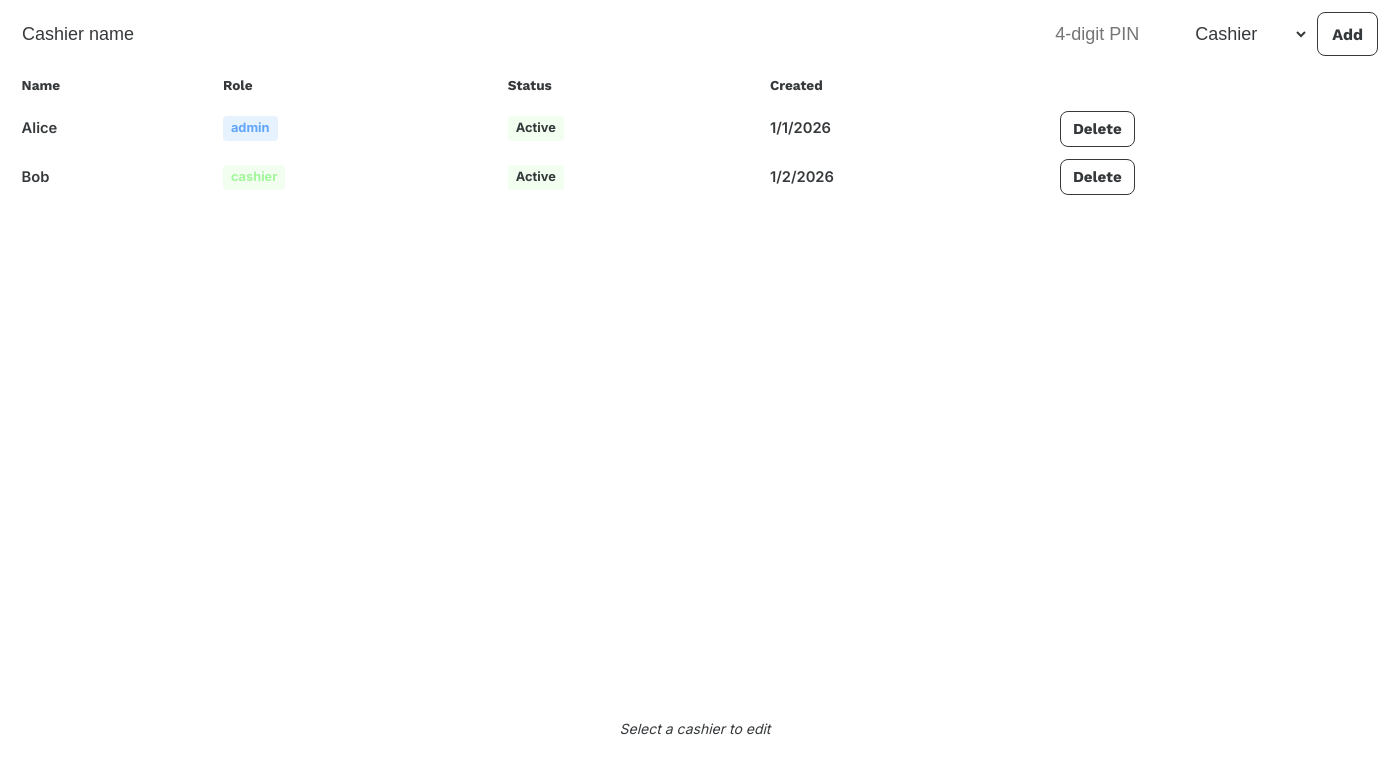
Test case: CashierPanel › displays success message after creating a cashier
Expected: the text "Alice" is shown, [12,104,213,153]
Type "Eve" into the field with placeholder "Cashier name" at (525, 34), box [12,16,1037,52]
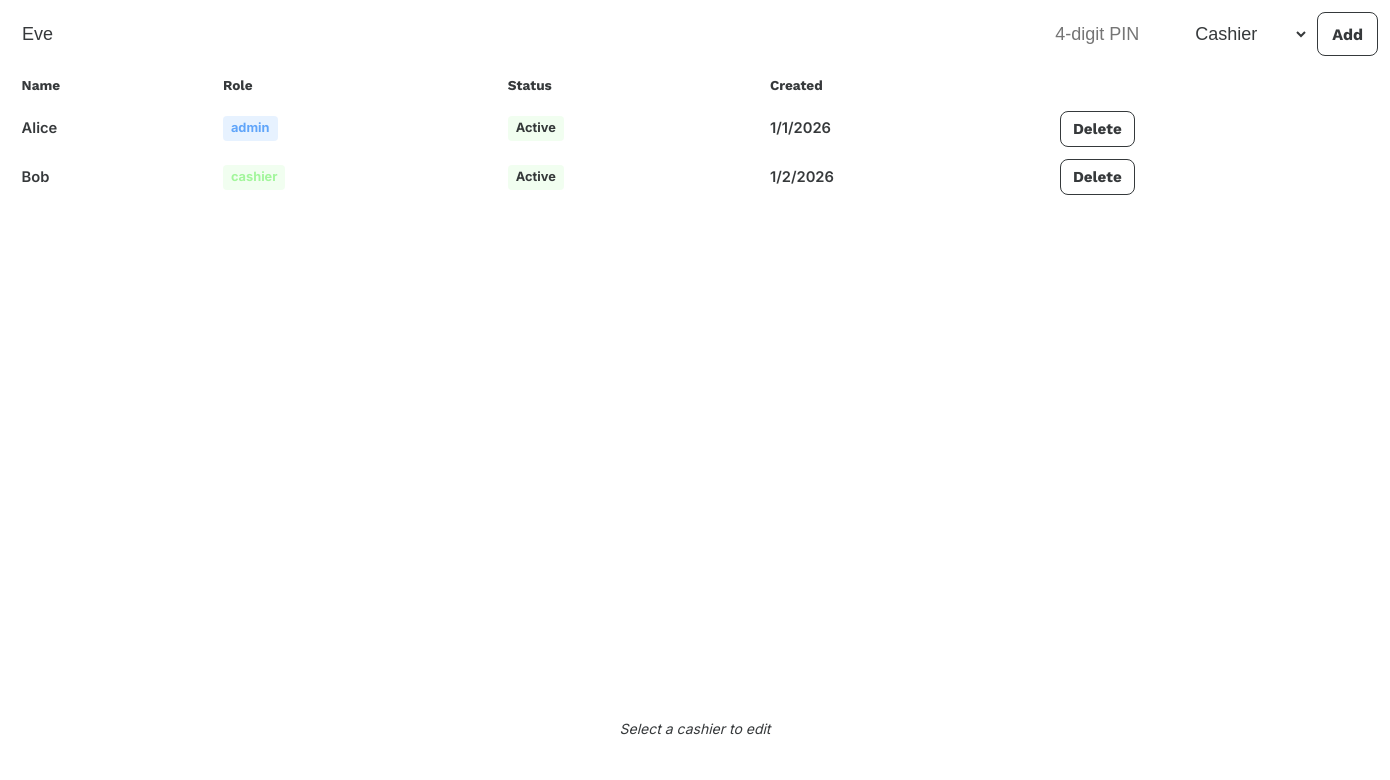
Type "5678" into the password field with placeholder "4-digit PIN" at (1109, 34), box [1045,16,1173,52]
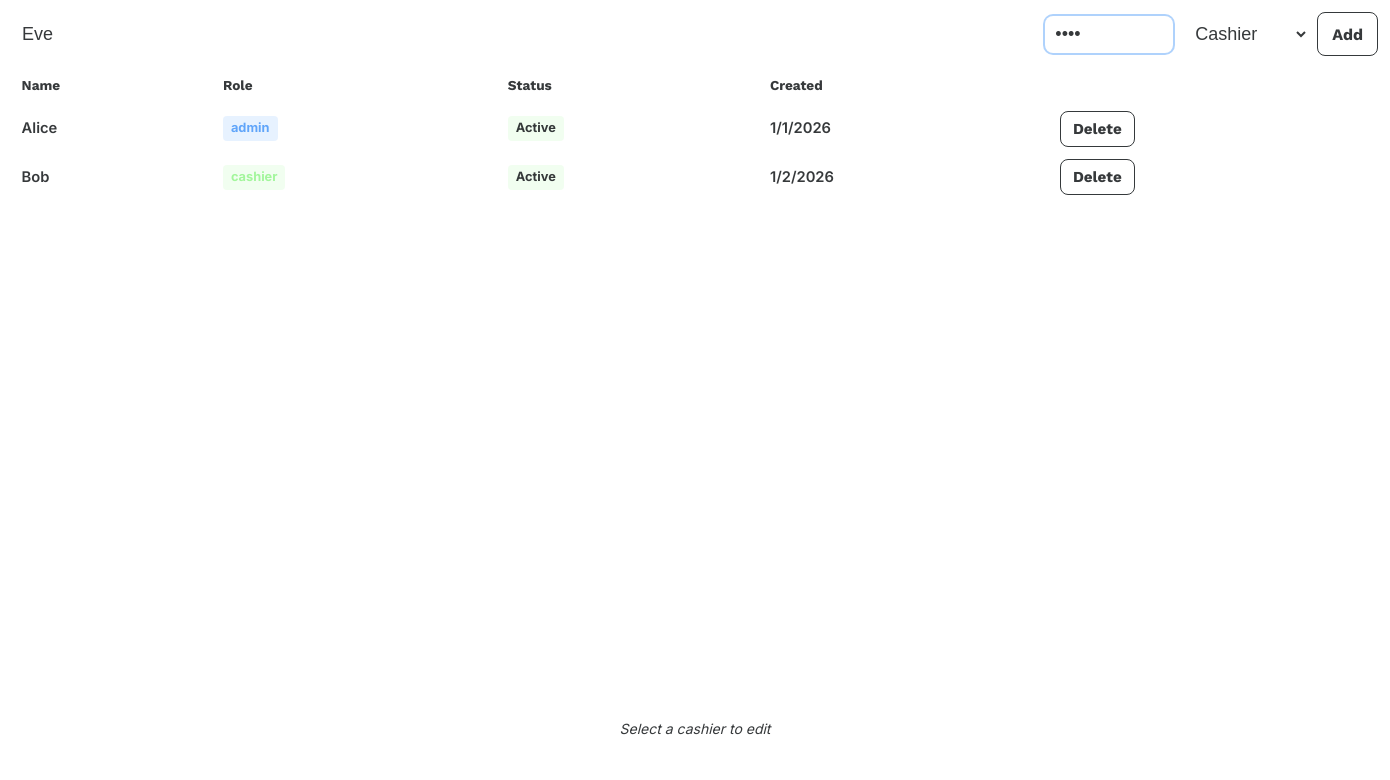
Click the button "Add" at (1348, 34), box [1317,12,1378,56]
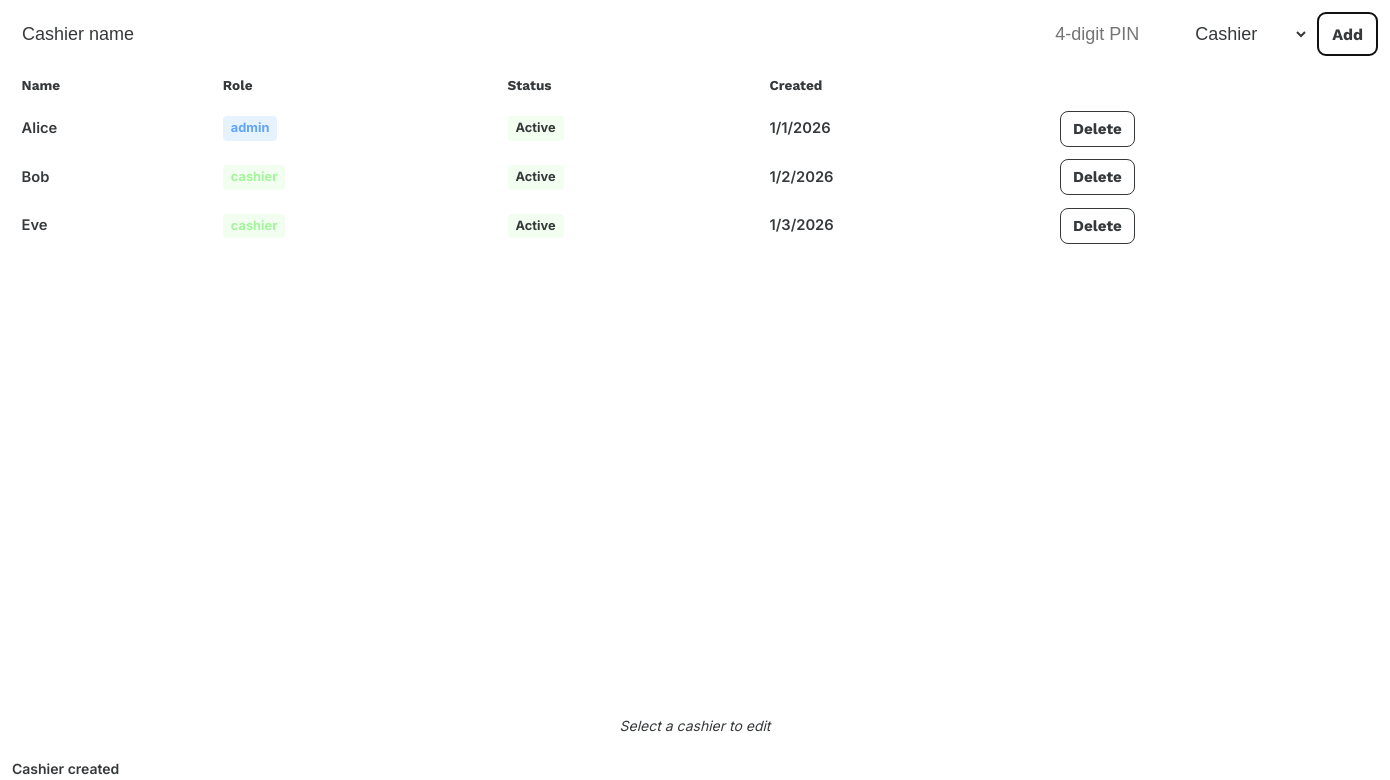
Result: the text "Cashier created" is shown at [12,760,119,777]
